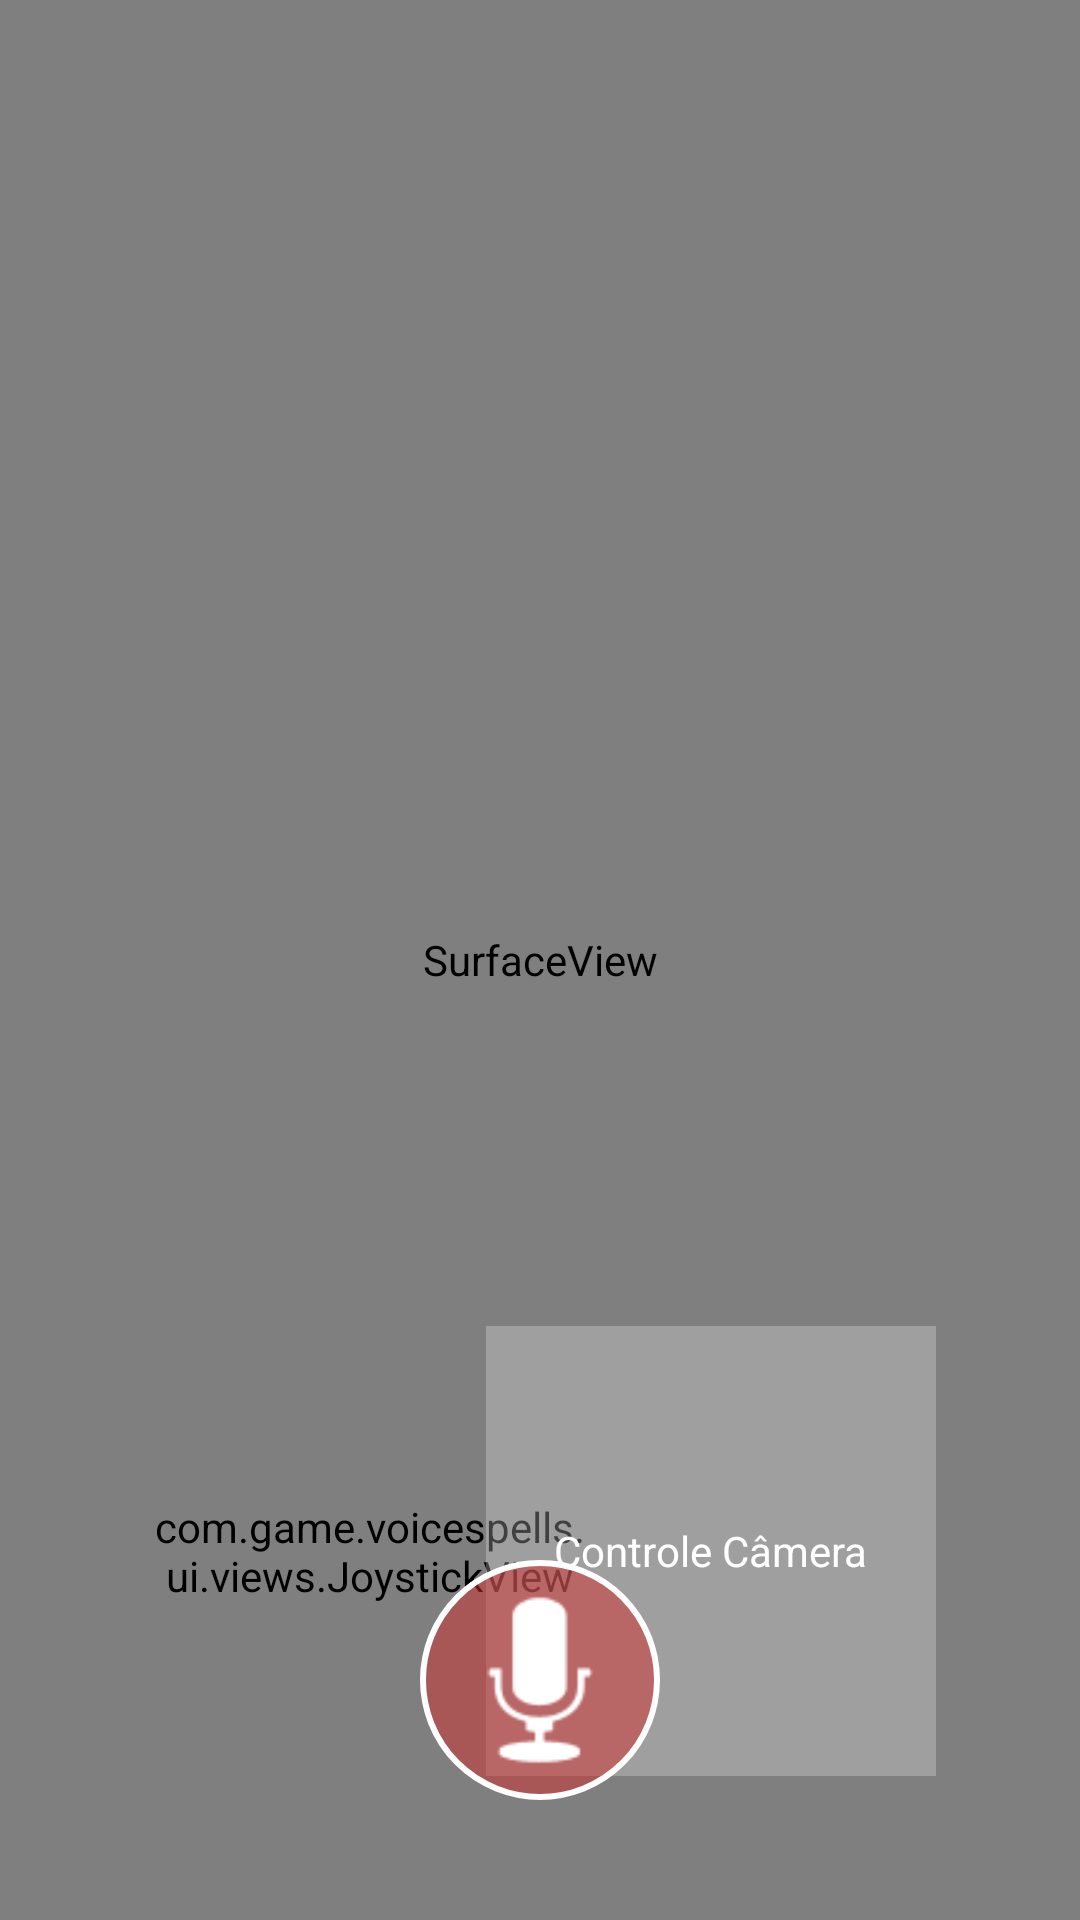

Icon click points for this 1080*1920 phone screenshot, format (x,y):
Microphone Button: (540,1680)
